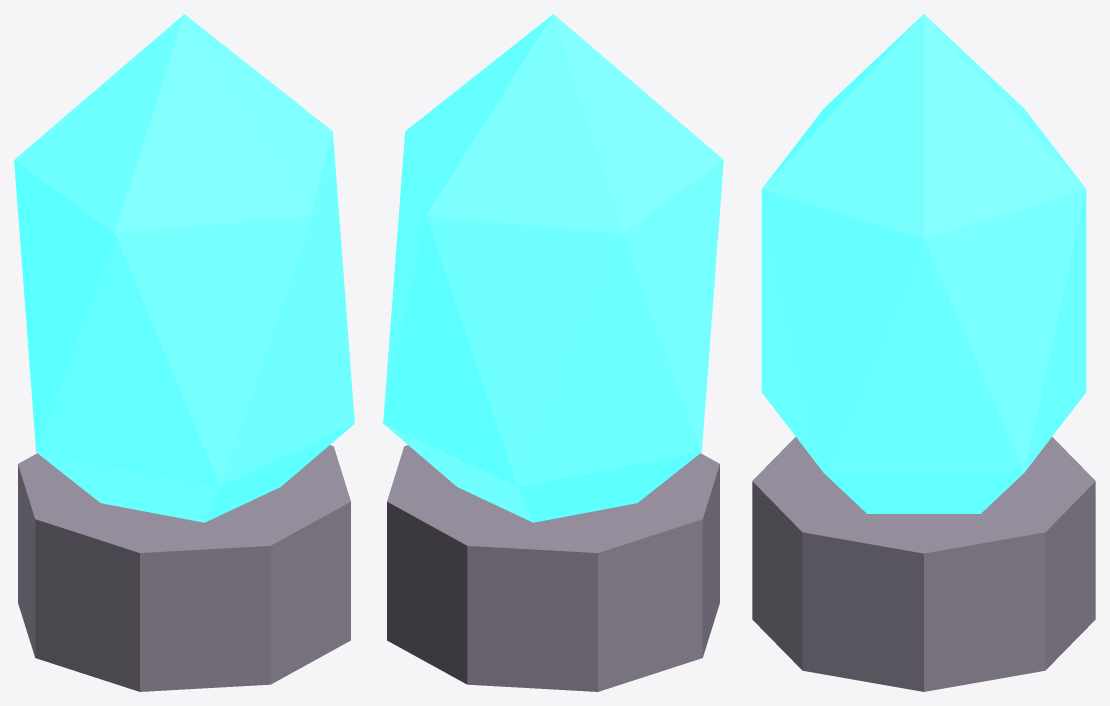
The model's file is crystal.glb.
3 views of the same model, side by side, from view 1: azimuth 30°, elevation 25°; view 2: azimuth 150°, elevation 25°; view 3: azimuth 270°, elevation 25° (orthographic).
Visible parts, largest first — view 1: healing crystal, pedestal; view 2: healing crystal, pedestal; view 3: healing crystal, pedestal.
Boxes of the visible parts, x1,y1,x2,y2 form: healing crystal: (14, 14, 354, 522); pedestal: (18, 445, 350, 691); healing crystal: (383, 14, 723, 522); pedestal: (387, 445, 719, 691); healing crystal: (761, 14, 1086, 513); pedestal: (752, 437, 1095, 691).
Size of the model in its own units: 0.36 by 0.7 by 0.36.
